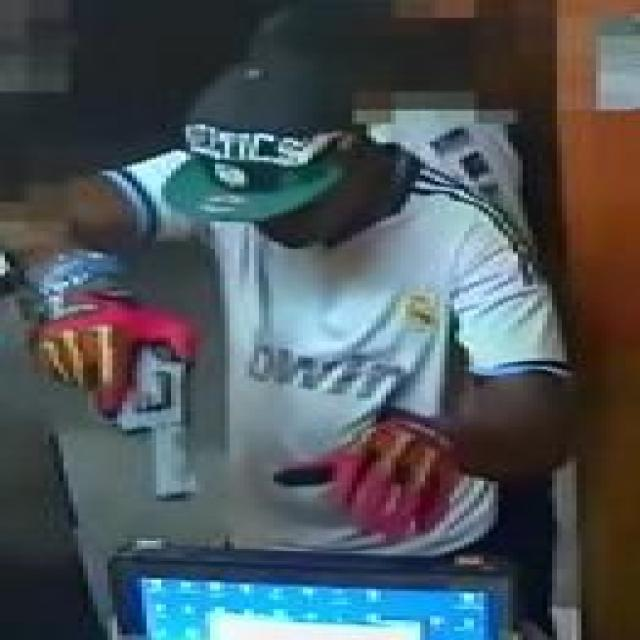Gun: (91, 324, 235, 519)
